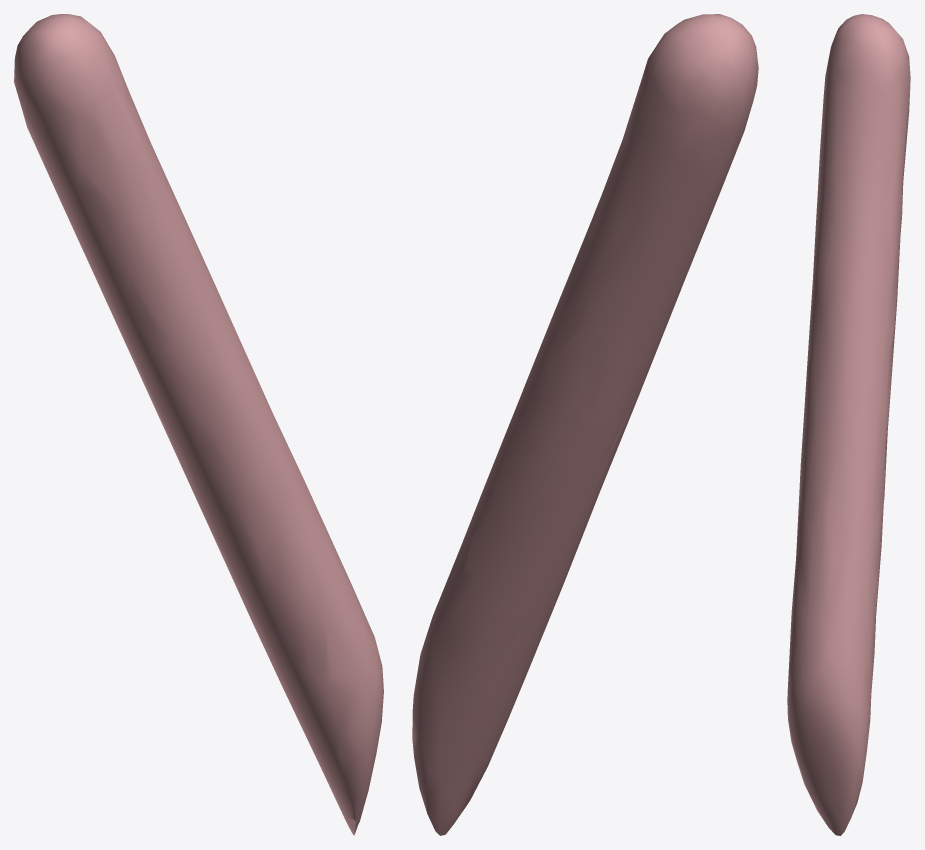
Rendered from fma55620_mm1338.glb.
3 renders of one model, left to right at view 1: azimuth 30°, elevation 25°; view 2: azimuth 150°, elevation 25°; view 3: azimuth 270°, elevation 25°, orthographic. The views are drawn at different scales.
Visible parts, largest first — view 1: FMA55620_MM1338; view 2: FMA55620_MM1338; view 3: FMA55620_MM1338.
Boxes of the visible parts, x1,y1,x2,y2 form: FMA55620_MM1338: [14, 14, 383, 835]; FMA55620_MM1338: [412, 14, 758, 835]; FMA55620_MM1338: [787, 14, 910, 835].
Bounding box in the file's own units: 0.0093 × 0.023 × 0.00363.
